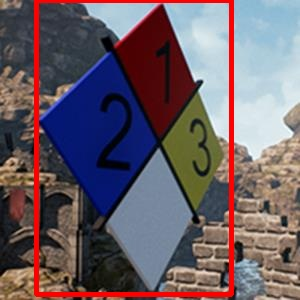nfpa: (36, 0, 231, 294)
